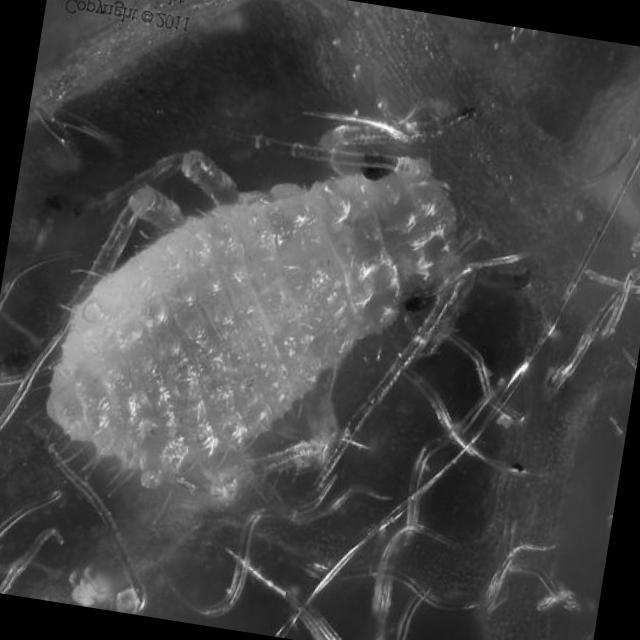Aphids: (0, 39, 539, 575)
